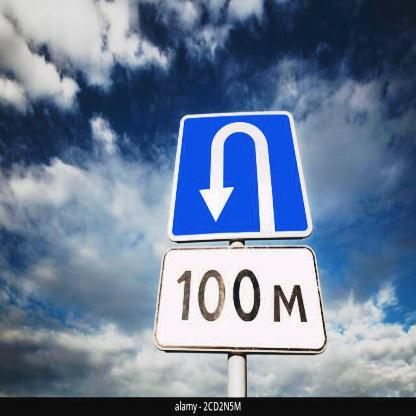U-turn: (176, 116, 306, 235)
